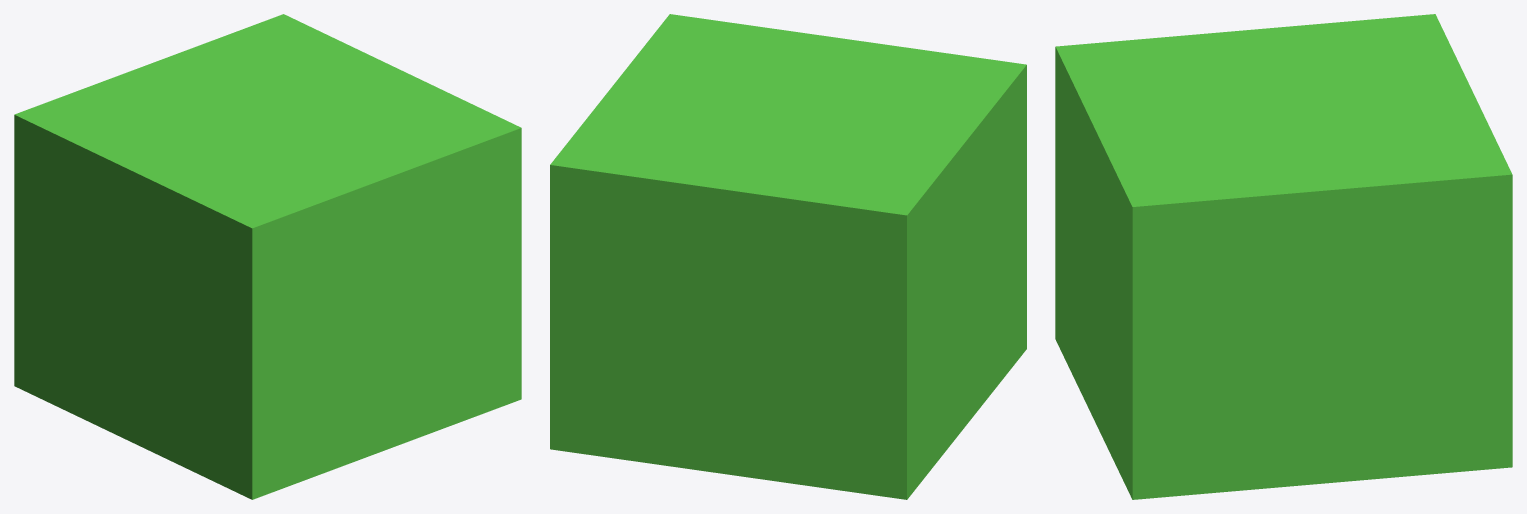
The model's file is prison_jelly.glb.
3 views of the same model, side by side, from view 1: azimuth 30°, elevation 25°; view 2: azimuth 150°, elevation 25°; view 3: azimuth 270°, elevation 25° (orthographic). The views are drawn at different scales.
Parts seen in each view (by area): view 1: jelly_jelly; view 2: jelly_jelly; view 3: jelly_jelly.
Part boxes in pixels (x1,y1,x2,y2): jelly_jelly: (14,14,521,499); jelly_jelly: (550,14,1026,499); jelly_jelly: (1055,14,1512,499).
Bounding box in the file's own units: 0.0707 × 0.05 × 0.0707.
